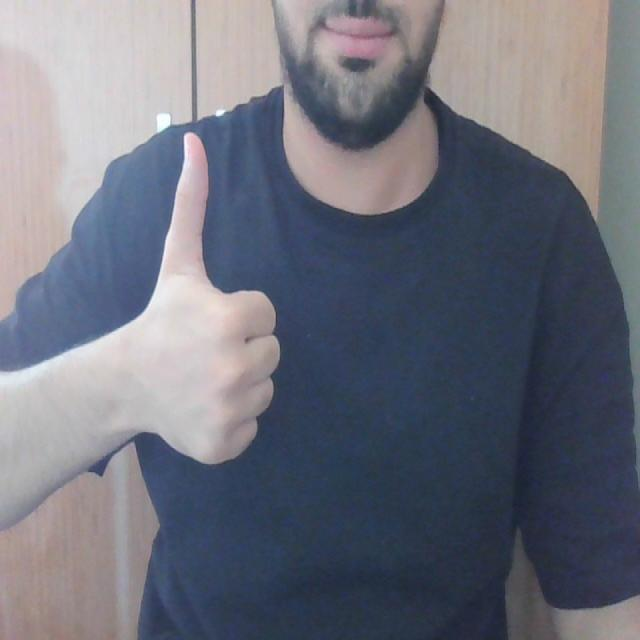Tamam: (138, 130, 284, 472)
